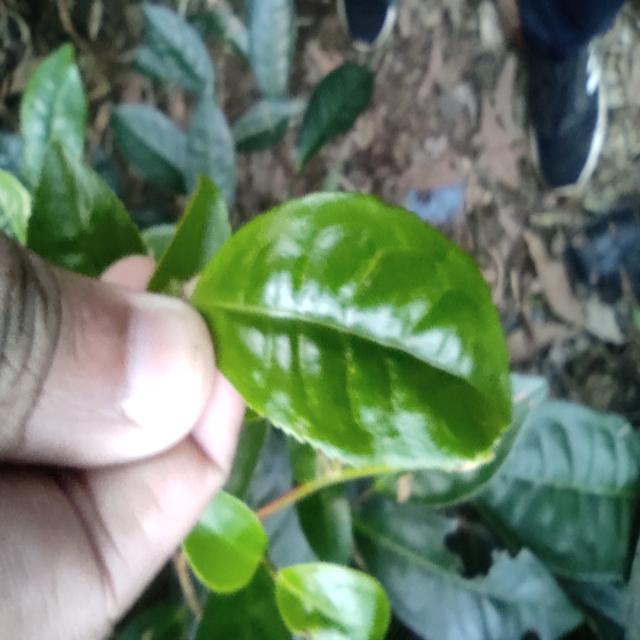Category C 4-7 days: (157, 168, 530, 522)
